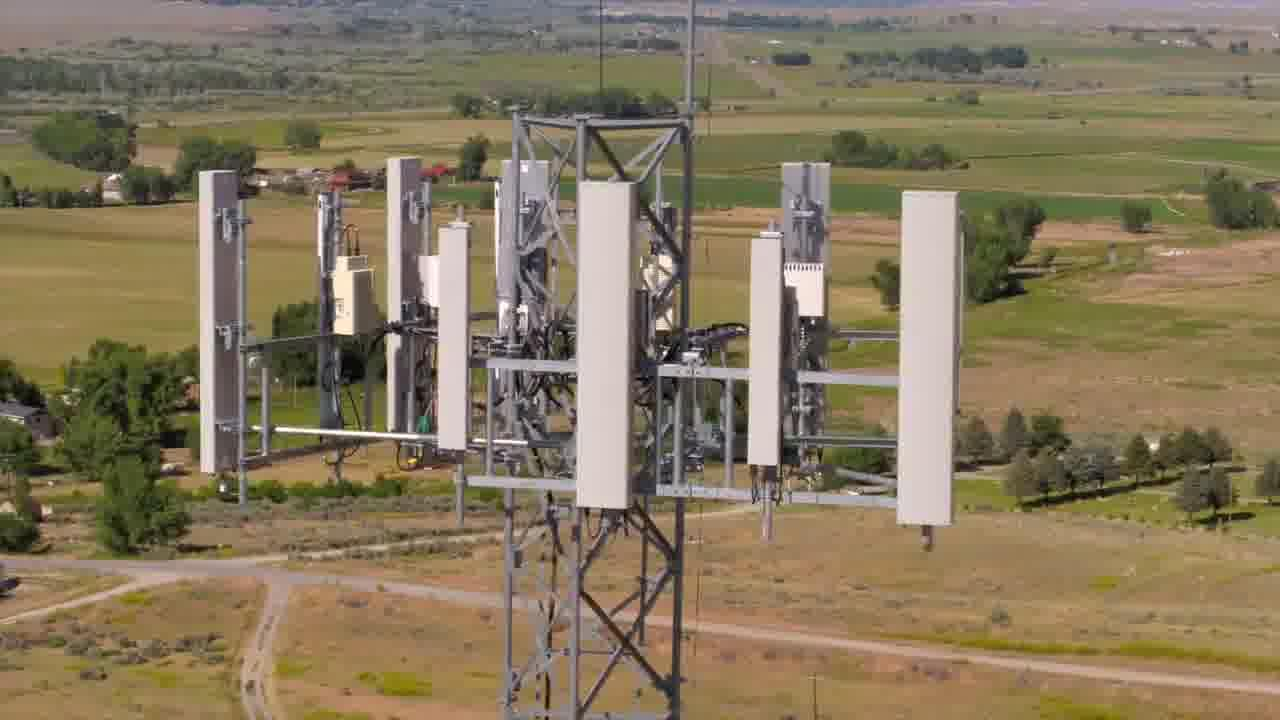antenna: (572, 160, 646, 532), (893, 176, 966, 537), (195, 169, 250, 491), (375, 158, 427, 438), (309, 187, 358, 458), (434, 217, 485, 469), (749, 233, 787, 486)
